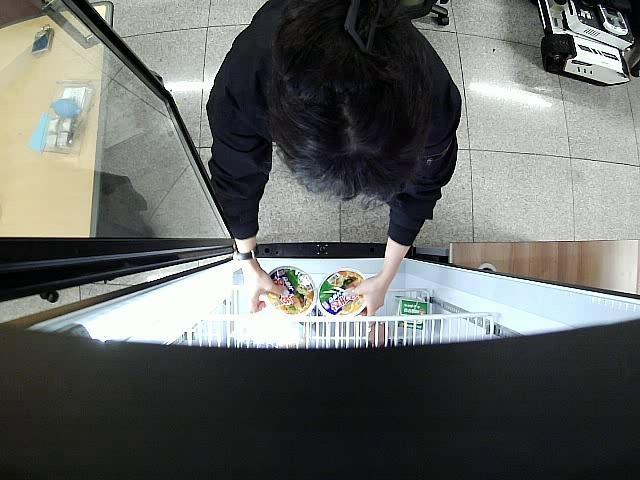09_yukGaeJang: (264, 267, 315, 320), (317, 269, 368, 317)
